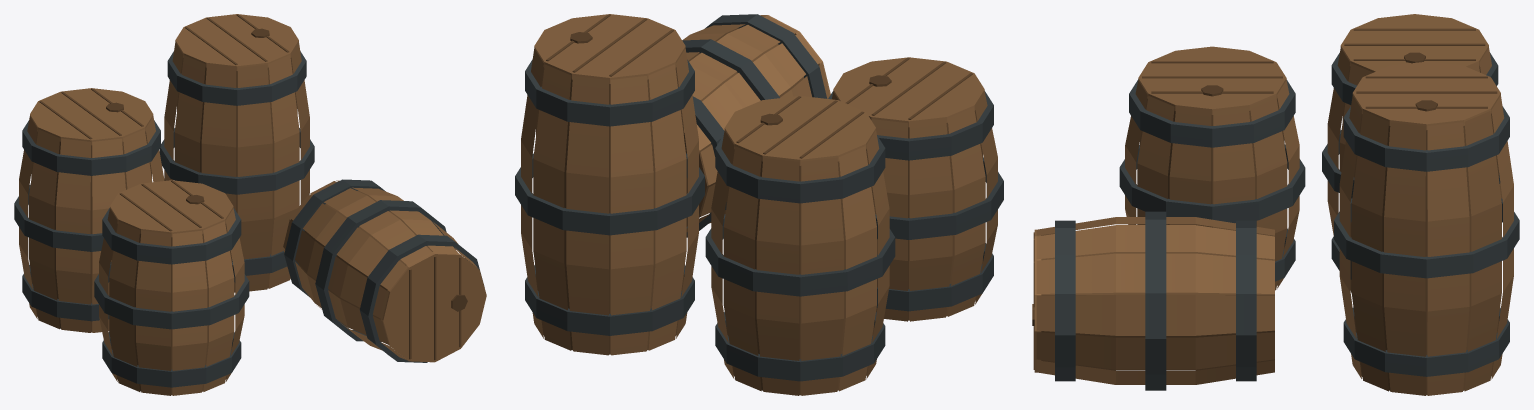
Rendered from town_barrels.glb.
3 views of the same model, side by side, from view 1: azimuth 30°, elevation 25°; view 2: azimuth 150°, elevation 25°; view 3: azimuth 270°, elevation 25° (orthographic). The views are drawn at different scales.
Visible parts, largest first — view 1: town_barrels; view 2: town_barrels; view 3: town_barrels.
Part boxes in pixels (x1=…): town_barrels: x1=14, y1=14, x2=486, y2=395; town_barrels: x1=515, y1=14, x2=1003, y2=395; town_barrels: x1=1032, y1=14, x2=1519, y2=395.
Size of the model in its own units: 1.49 by 1.01 by 1.64.
